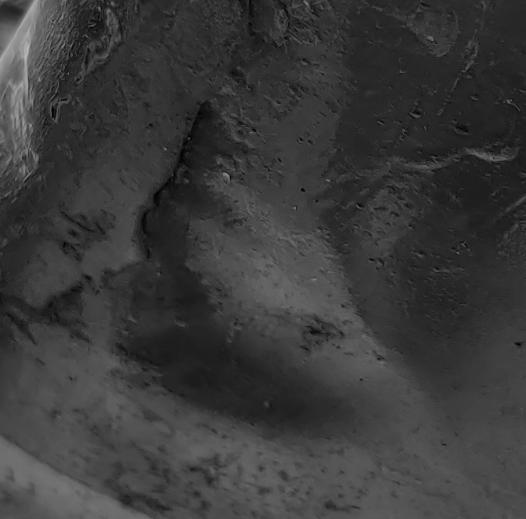dent: (1, 1, 526, 519)
